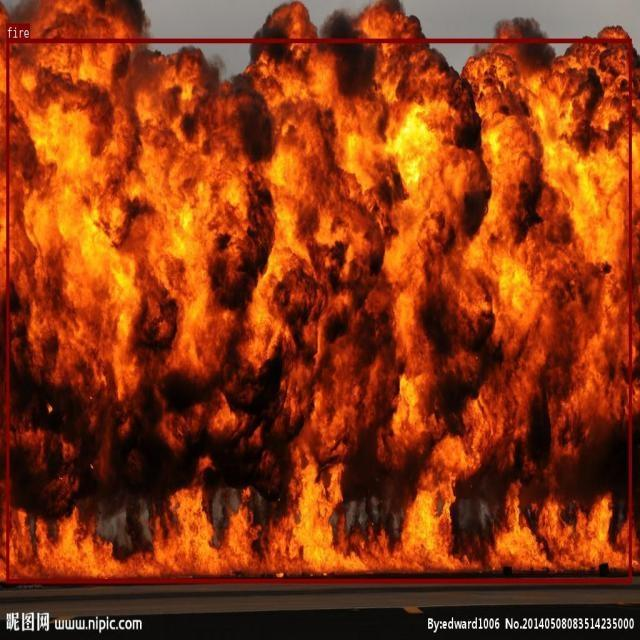fire: (6, 38, 631, 582)
